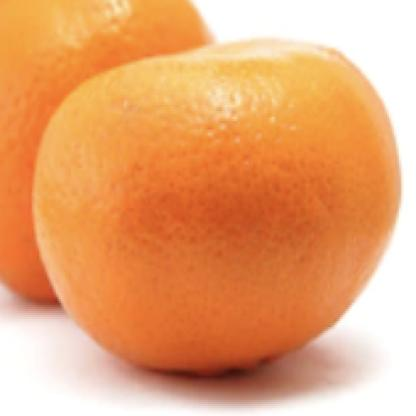fresh: (32, 36, 396, 384)
